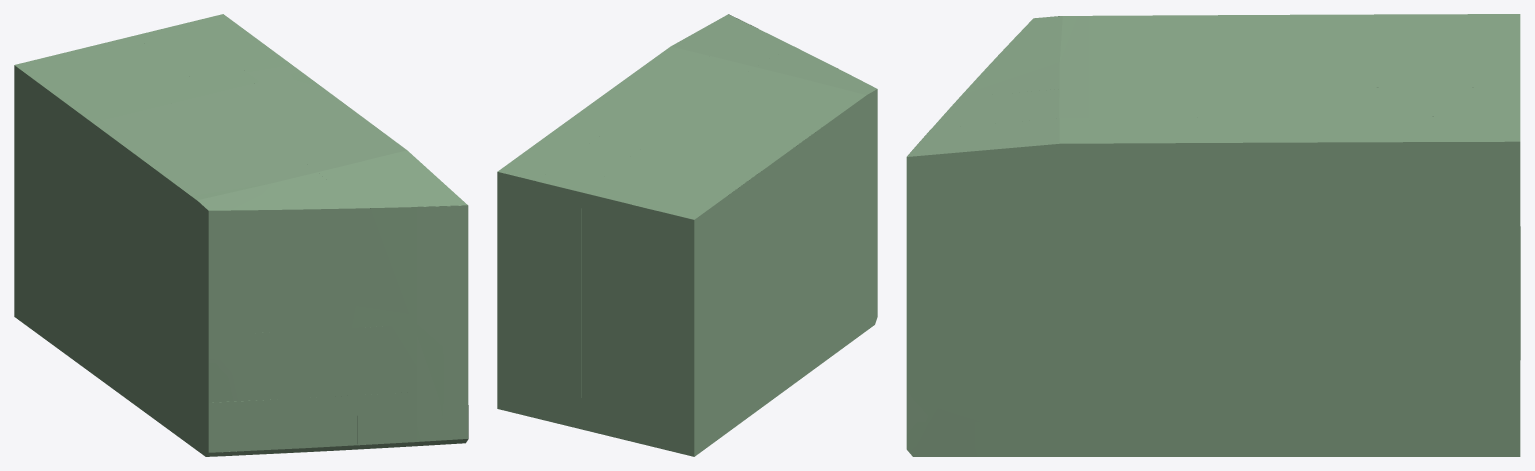
Rendered from DIST_WATER_STOR_TK_SB.glb.
The picture shows the model from 3 angles, left to right: view 1: azimuth 30°, elevation 25°; view 2: azimuth 150°, elevation 25°; view 3: azimuth 270°, elevation 25°; orthographic projection. The views are drawn at different scales.
Parts seen in each view (by area): view 1: PL_OuterShellxAPTS_014005-18.5_NVA_1993, PL_SideTransxFR6S_003001-11_NVA_1993, PL_UDxAPTS_006005-12_NVA_1993, PL_OuterShellxAPTS_013010-18.5_NVA_1993, PL_UDxAPTS_010005-12_NVA_1993, PL_SideTransxFR6S_001001-11_NVA_1993, PL_OuterShellxAPTS_013011-18.5_NVA_1993, PL_UDxAPTS_012003-12_NVA_1993, PL_SideTransxFR6S_002001-11_NVA_1993, PL_SideTransxFR6S_002002-11_NVA_1993, PL_OuterShellxAPTS_014007-18.5_NVA_1993, PL_OuterShellxAPTS_013015-18.5_NVA_1993 (+7 smaller); view 2: PL_No8LBHDxAPTS_006001-11_NVA_1993, PL_SideTransxFR6S_003001-11_NVA_1993, PL_UDxAPTS_006005-12_NVA_1993, PL_UDxAPTS_010005-12_NVA_1993, PL_SideTransxFR6S_001001-11_NVA_1993, PL_No8LBHDxAPTS_005001-11_NVA_1993, PL_No8LBHDxAPTS_005002-11_NVA_1993, PL_SideTransxFR6S_002001-11_NVA_1993, PL_SideTransxFR6S_002002-11_NVA_1993, PL_UDxAPTS_012003-12_NVA_1993, PL_No8LBHDxAPTS_006003-11_NVA_1993, PL_No8LBHDxAPTS_005005-11_NVA_1993 (+6 smaller); view 3: PL_SideTransBHDxBHD13S_006001-11_NVA_1993, PL_SideTransBHDxBHD13S_005001-11_NVA_1993, PL_SideTransBHDxBHD13S_004001-11_NVA_1993, PL_UDxAPTS_006005-12_NVA_1993, PL_UDxAPTS_010005-12_NVA_1993, PL_SideTransBHDxBHD13S_003001-11_NVA_1993, PL_SideTransBHDxBHD13S_002001-11_NVA_1993, PL_SideTransBHDxBHD13S_004002-11_NVA_1993, PL_UDxAPTS_012003-12_NVA_1993, PL_SideTransBHDxBHD13S_005002-11_NVA_1993, PL_SideTransBHDxBHD13S_001001-11_NVA_1993, PL_SideTransBHDxBHD13S_003002-11_NVA_1993 (+7 smaller).
Boxes of the visible parts, box(x1,y1,x2,y2) form: PL_OuterShellxAPTS_014005-18.5_NVA_1993: box(208, 207, 416, 335); PL_SideTransxFR6S_003001-11_NVA_1993: box(14, 65, 154, 305); PL_UDxAPTS_006005-12_NVA_1993: box(92, 82, 353, 192); PL_OuterShellxAPTS_013010-18.5_NVA_1993: box(208, 324, 416, 402); PL_UDxAPTS_010005-12_NVA_1993: box(14, 24, 258, 122); PL_SideTransxFR6S_001001-11_NVA_1993: box(154, 169, 208, 402); PL_OuterShellxAPTS_013011-18.5_NVA_1993: box(208, 392, 416, 452); PL_UDxAPTS_012003-12_NVA_1993: box(187, 152, 416, 210); PL_SideTransxFR6S_002001-11_NVA_1993: box(14, 204, 154, 362); PL_SideTransxFR6S_002002-11_NVA_1993: box(14, 261, 154, 418); PL_OuterShellxAPTS_014007-18.5_NVA_1993: box(417, 205, 468, 324); PL_OuterShellxAPTS_013015-18.5_NVA_1993: box(417, 321, 468, 420); PL_No8LBHDxAPTS_006001-11_NVA_1993: box(536, 181, 694, 350); PL_SideTransxFR6S_003001-11_NVA_1993: box(694, 124, 826, 350); PL_UDxAPTS_006005-12_NVA_1993: box(611, 64, 856, 166); PL_UDxAPTS_010005-12_NVA_1993: box(537, 128, 767, 219); PL_SideTransxFR6S_001001-11_NVA_1993: box(826, 89, 877, 306); PL_No8LBHDxAPTS_005001-11_NVA_1993: box(536, 312, 694, 403); PL_No8LBHDxAPTS_005002-11_NVA_1993: box(536, 365, 694, 456); PL_SideTransxFR6S_002001-11_NVA_1993: box(694, 254, 826, 403); PL_SideTransxFR6S_002002-11_NVA_1993: box(694, 307, 826, 456); PL_UDxAPTS_012003-12_NVA_1993: box(699, 29, 876, 102); PL_No8LBHDxAPTS_006003-11_NVA_1993: box(497, 172, 536, 311); PL_No8LBHDxAPTS_005005-11_NVA_1993: box(497, 302, 536, 391); PL_SideTransBHDxBHD13S_006001-11_NVA_1993: box(1209, 141, 1520, 315); PL_SideTransBHDxBHD13S_005001-11_NVA_1993: box(1209, 315, 1520, 421); PL_SideTransBHDxBHD13S_004001-11_NVA_1993: box(990, 143, 1137, 315); PL_UDxAPTS_006005-12_NVA_1993: box(1088, 14, 1324, 117); PL_UDxAPTS_010005-12_NVA_1993: box(1324, 14, 1520, 116); PL_SideTransBHDxBHD13S_003001-11_NVA_1993: box(990, 315, 1137, 421); PL_SideTransBHDxBHD13S_002001-11_NVA_1993: box(906, 149, 990, 315); PL_SideTransBHDxBHD13S_004002-11_NVA_1993: box(1137, 143, 1209, 315); PL_UDxAPTS_012003-12_NVA_1993: box(931, 16, 1088, 129); PL_SideTransBHDxBHD13S_005002-11_NVA_1993: box(1209, 422, 1520, 456); PL_SideTransBHDxBHD13S_001001-11_NVA_1993: box(906, 315, 990, 421); PL_SideTransBHDxBHD13S_003002-11_NVA_1993: box(1137, 315, 1209, 421).
Bounding box in the file's own units: 5.26 × 6.04 × 10.66.
